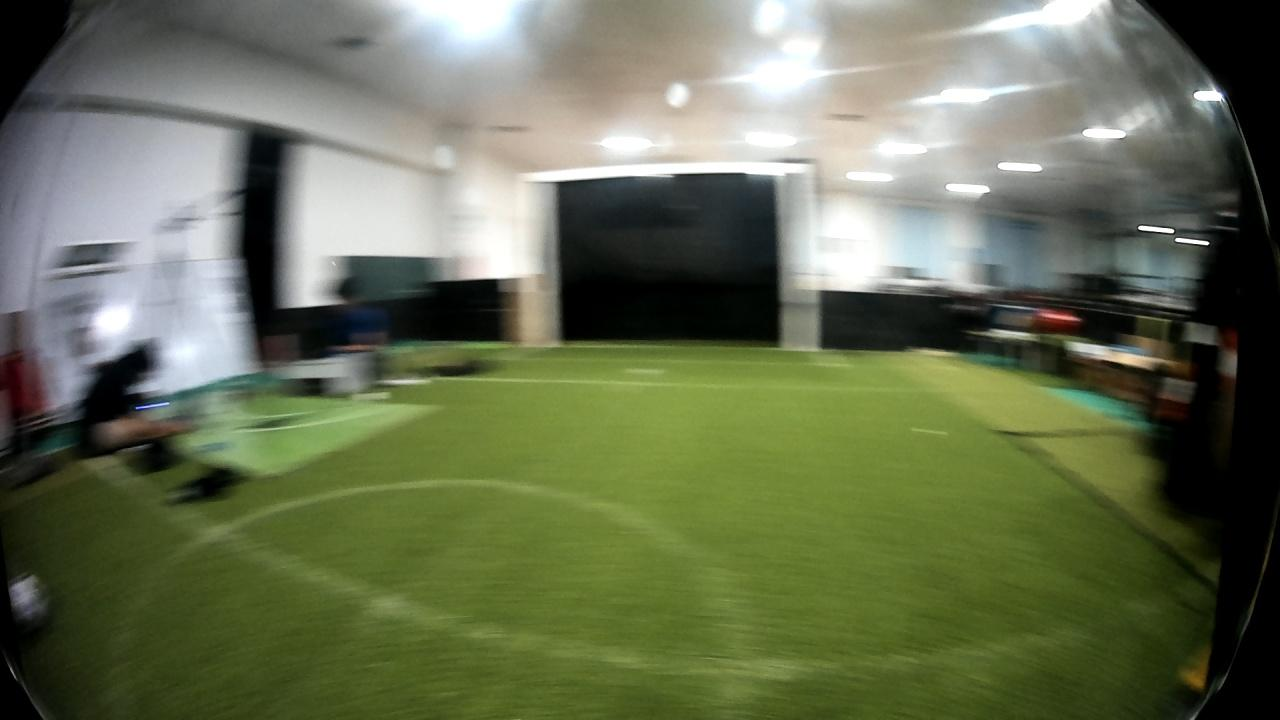ball: (0, 565, 58, 638)
